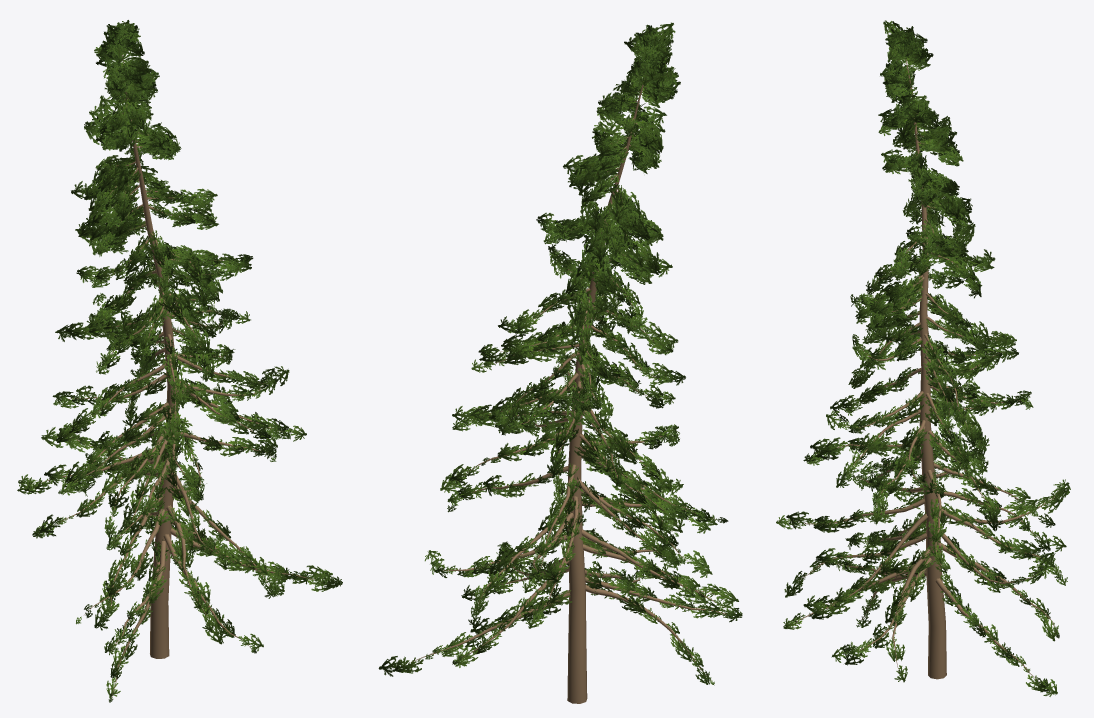
File: pine-lod0.glb
3 renders of one model, left to right at view 1: azimuth 30°, elevation 25°; view 2: azimuth 150°, elevation 25°; view 3: azimuth 270°, elevation 25°, orthographic. The views are drawn at different scales.
Parts seen in each view (by area): view 1: leaf cards, branches; view 2: leaf cards, branches; view 3: leaf cards, branches.
Boxes of the visible parts, x1,y1,x2,y2 form: leaf cards: (17, 20, 342, 702); branches: (41, 52, 321, 697); leaf cards: (378, 22, 742, 685); branches: (408, 79, 726, 703); leaf cards: (776, 20, 1070, 696); branches: (794, 59, 1057, 682).
Size of the model in its own units: 4.21 by 10 by 4.39.
2 materials, 1 textured.
